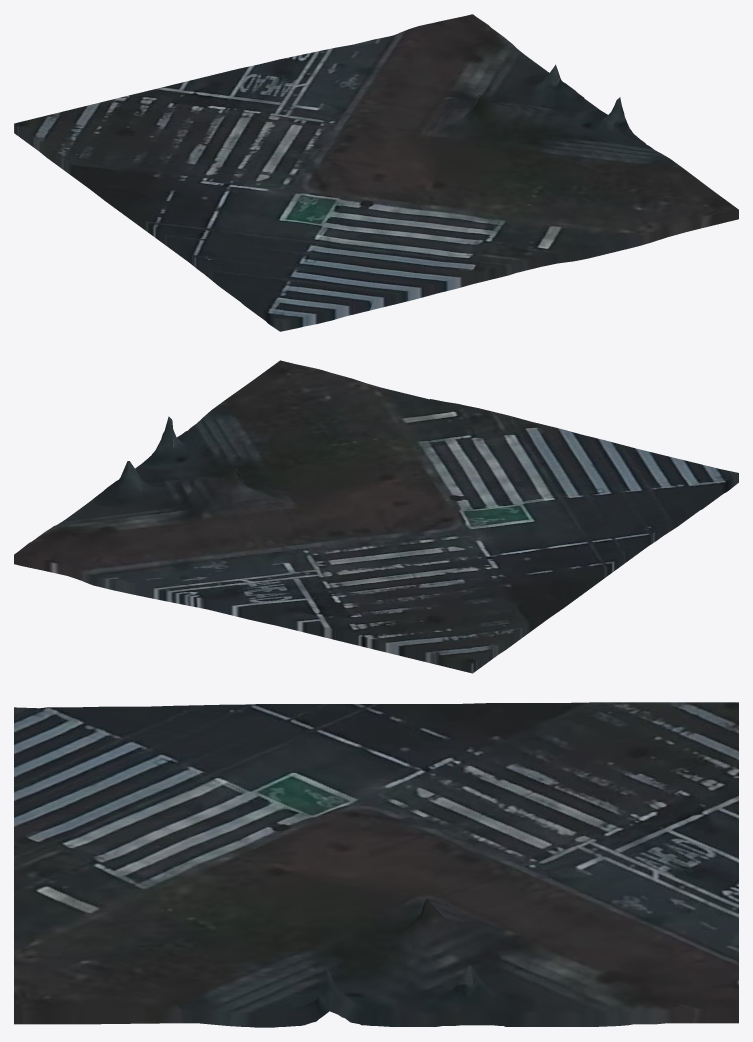
File: z20-167774-405236-h0-yup-uvflip-v3-world.glb
3 renders of one model, top to bottom at view 1: azimuth 30°, elevation 25°; view 2: azimuth 150°, elevation 25°; view 3: azimuth 270°, elevation 25°, orthographic. The views are drawn at different scales.
Bounding box in the file's own units: 30.16 × 2.64 × 30.32.
1 material, 1 textured.
